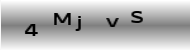4: (23, 23, 40, 38)
M: (52, 11, 71, 27)
S: (130, 9, 144, 24)
j: (74, 15, 82, 32)
v: (104, 16, 120, 28)
